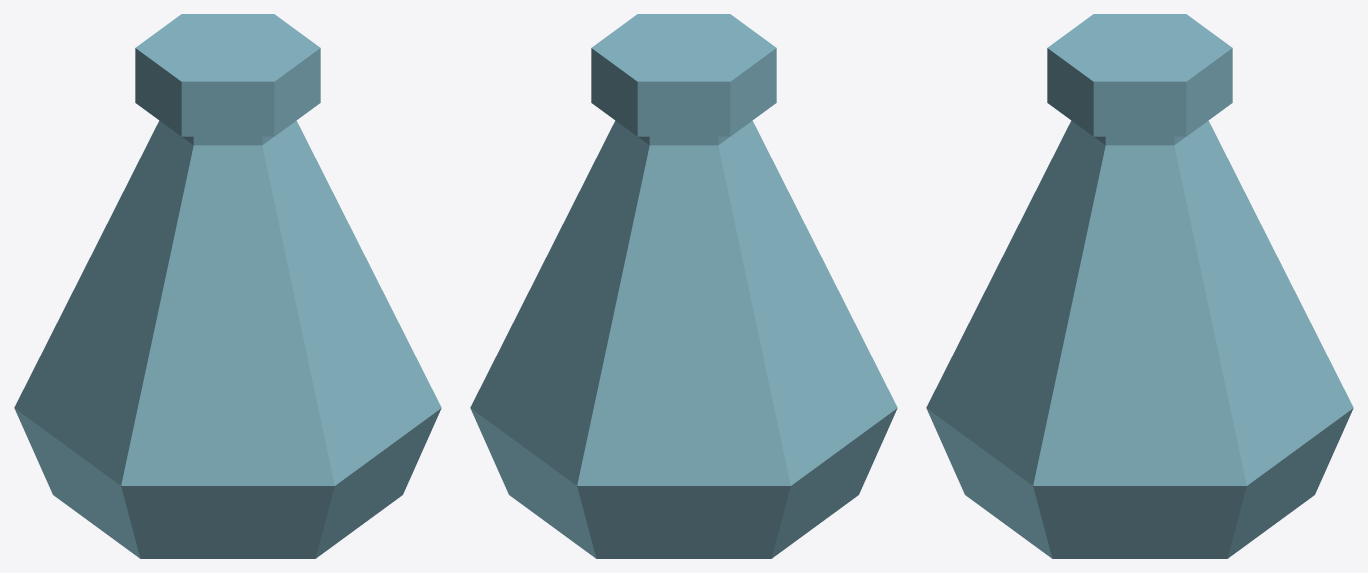
Rendered from staminaPotion.obj.
3 views of the same model, side by side, from view 1: azimuth 30°, elevation 25°; view 2: azimuth 150°, elevation 25°; view 3: azimuth 270°, elevation 25° (orthographic).
Visible parts, largest first — view 1: staminaPotion_Cylinder.012_glass; view 2: staminaPotion_Cylinder.012_glass; view 3: staminaPotion_Cylinder.012_glass.
Part boxes in pixels (x1=…): staminaPotion_Cylinder.012_glass: x1=14, y1=14, x2=441, y2=558; staminaPotion_Cylinder.012_glass: x1=470, y1=14, x2=897, y2=558; staminaPotion_Cylinder.012_glass: x1=926, y1=14, x2=1353, y2=558.
Bounding box in the file's own units: 0.2058 × 0.2741 × 0.2376.
